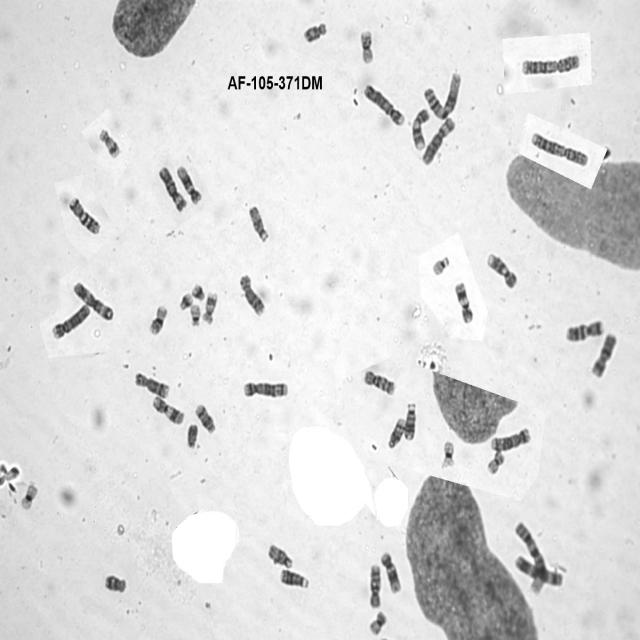A1: (514, 517, 547, 596), (421, 68, 463, 122)
A2: (529, 128, 590, 168), (518, 50, 580, 76)
A3: (512, 552, 565, 589), (71, 278, 115, 322)
B4: (362, 80, 406, 128), (49, 301, 92, 341)
B5: (488, 424, 532, 452), (241, 379, 289, 399)
C10: (361, 366, 397, 397), (367, 560, 382, 610)
C11: (150, 393, 185, 426), (453, 277, 474, 325)
C12: (175, 162, 202, 207), (379, 549, 403, 595)
C6: (419, 115, 456, 167), (156, 164, 188, 214)
C7: (66, 194, 102, 236), (564, 316, 606, 343)
C8: (238, 270, 266, 318), (132, 368, 170, 399)
C9: (484, 250, 518, 290), (409, 105, 431, 151)
D13: (278, 566, 310, 590), (402, 400, 418, 442)
D14: (192, 401, 216, 435), (386, 415, 406, 449)
D15: (247, 202, 270, 245), (264, 540, 294, 569)
E16: (146, 302, 169, 336), (358, 26, 376, 66)
E17: (97, 124, 122, 160), (200, 290, 219, 326)
E18: (300, 20, 328, 46), (102, 571, 128, 595)
F19: (18, 479, 39, 511), (439, 437, 456, 469)
F20: (485, 448, 506, 476), (368, 612, 390, 634)
G21: (177, 290, 194, 311), (189, 281, 206, 301)
G22: (430, 252, 451, 277), (188, 302, 202, 327)
X: (588, 330, 618, 381)
Y: (185, 421, 199, 448)
